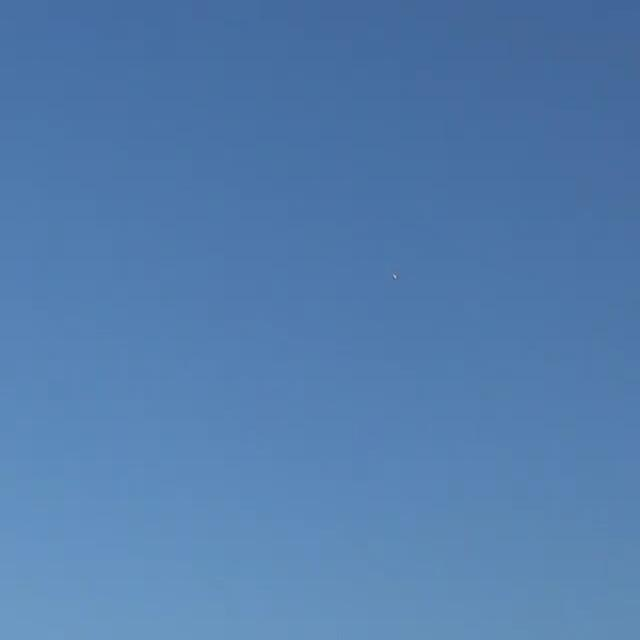AirPlane: (383, 262, 405, 290)
